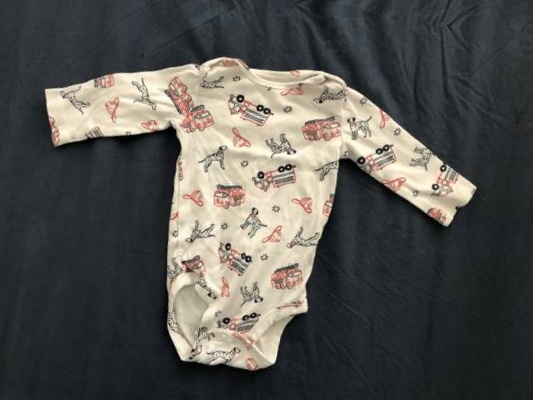Body: (0, 17, 492, 400), (507, 90, 533, 400)
